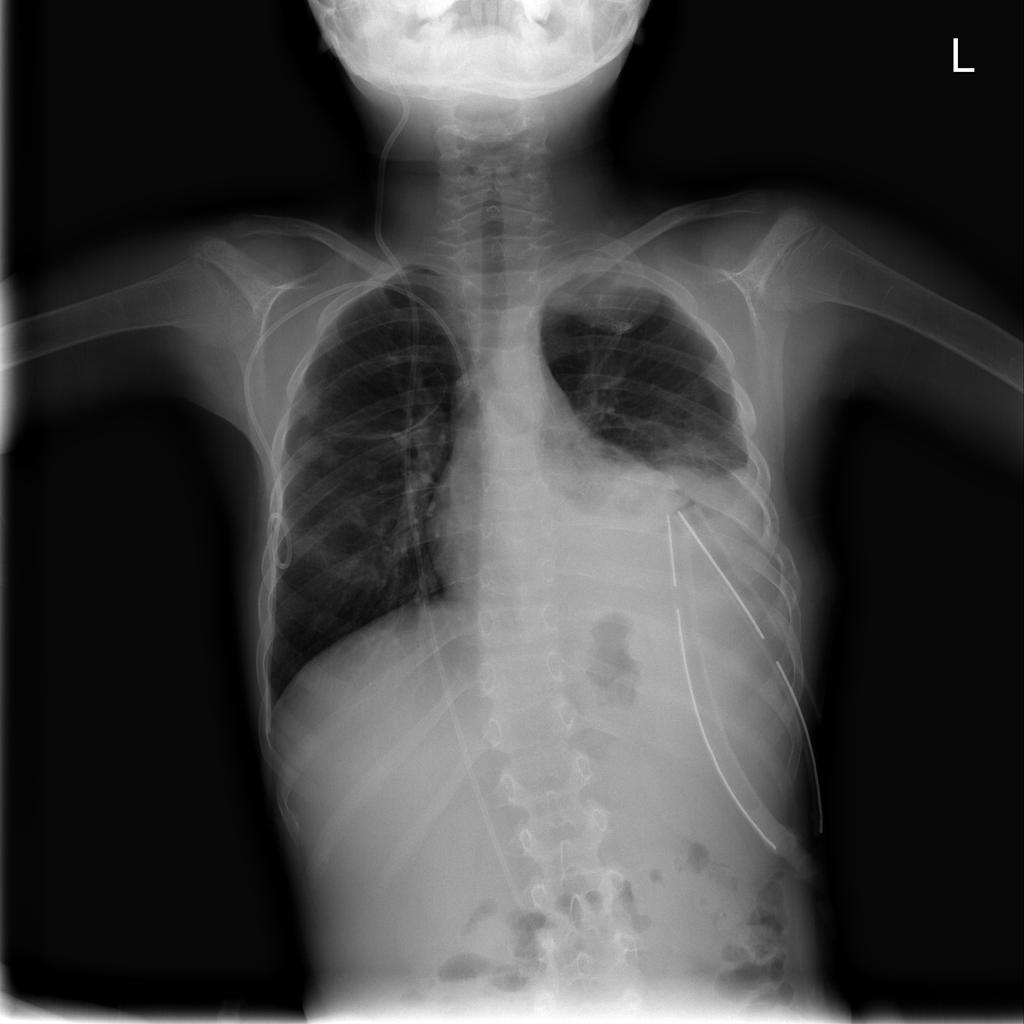nodule: (288, 422, 343, 470), (307, 434, 360, 483), (357, 447, 392, 488)
